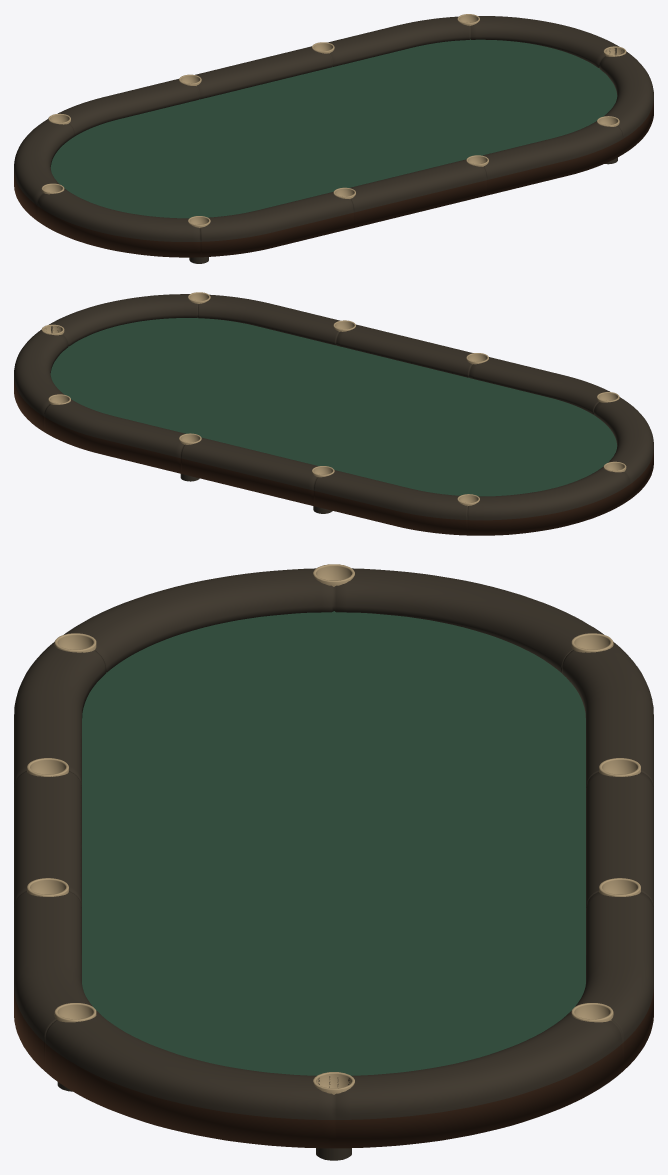
The model's file is table.glb.
3 views of the same model, one above another, from view 1: azimuth 30°, elevation 25°; view 2: azimuth 150°, elevation 25°; view 3: azimuth 270°, elevation 25° (orthographic). The views are drawn at different scales.
Visible parts, largest first — view 1: felt, rail, cups; view 2: felt, rail, cups; view 3: felt, rail, cups.
Part boxes in pixels (left/top/right/bottom): felt: left=50, top=39, right=617, bottom=218; rail: left=14, top=16, right=653, bottom=263; cups: left=41, top=14, right=626, bottom=227; felt: left=50, top=318, right=617, bottom=496; rail: left=14, top=294, right=653, bottom=535; cups: left=41, top=292, right=626, bottom=506; felt: left=82, top=611, right=585, bottom=1075; rail: left=14, top=568, right=653, bottom=1160; cups: left=27, top=564, right=640, bottom=1094.
Size of the model in its own units: 2.42 by 0.1528 by 1.22.
